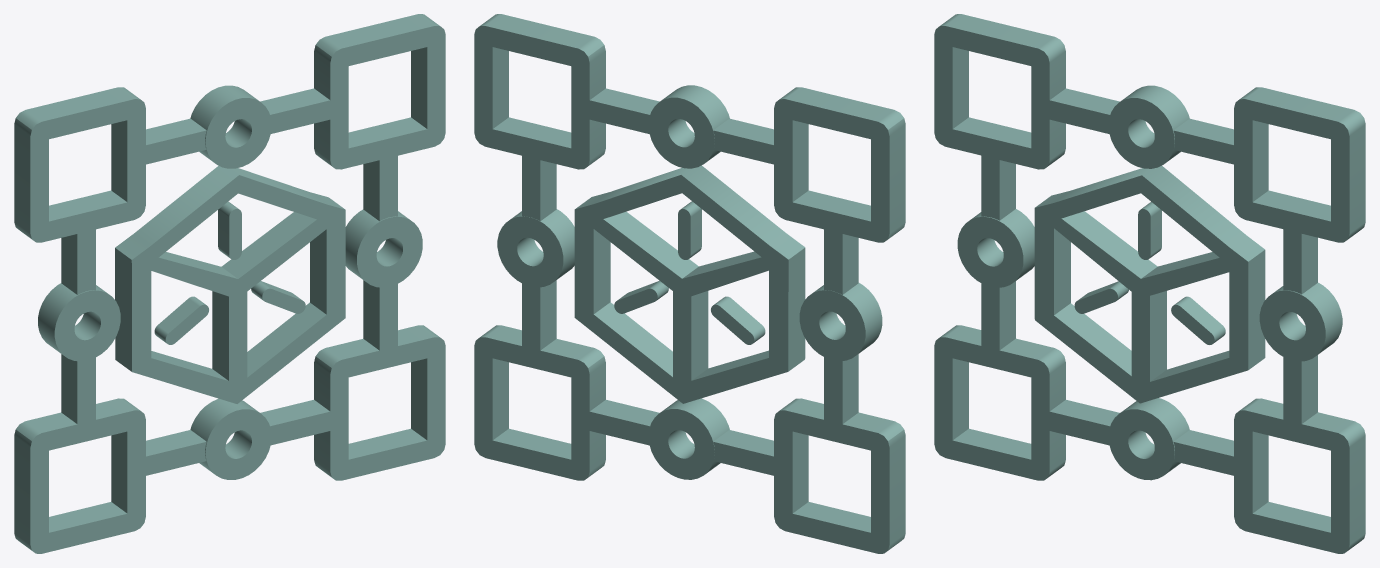
File: Pattern V001.fbx
The picture shows the model from 3 angles, left to right: view 1: azimuth 30°, elevation 25°; view 2: azimuth 150°, elevation 25°; view 3: azimuth 330°, elevation 25°; orthographic projection.
Visible parts, largest first — view 1: pCube14; view 2: pCube14; view 3: pCube14.
Boxes of the visible parts, bbox=[...] form: pCube14: bbox=[14, 14, 445, 553]; pCube14: bbox=[474, 14, 905, 553]; pCube14: bbox=[934, 14, 1365, 553].
Bounding box in the file's own units: 37.51 × 37.29 × 2.64.
